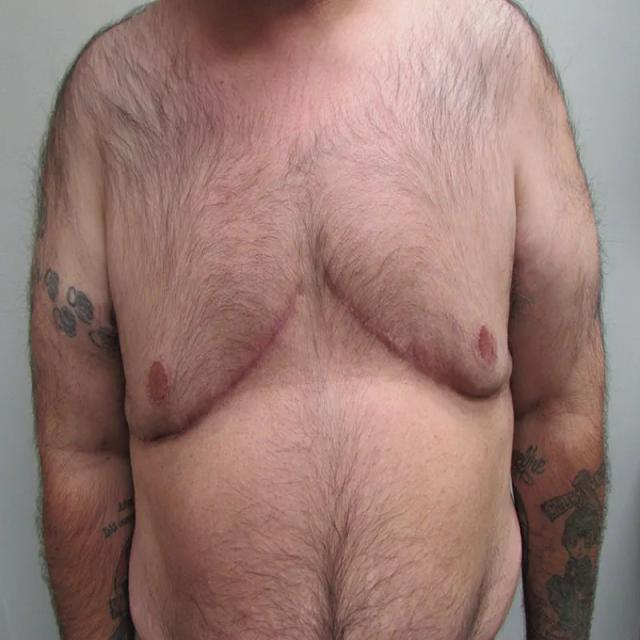Seno herido: (118, 193, 309, 461), (317, 193, 516, 427)
